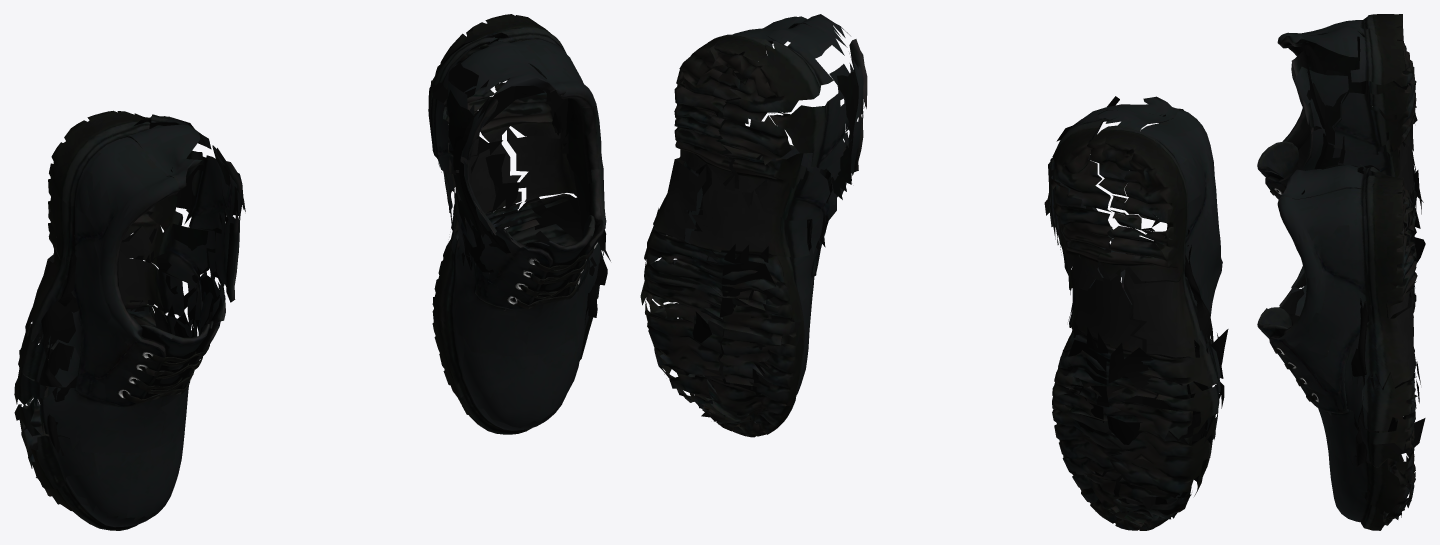
File: adult-base-01.mobile.glb
3 renders of one model, left to right at view 1: azimuth 30°, elevation 25°; view 2: azimuth 150°, elevation 25°; view 3: azimuth 270°, elevation 25°, orthographic. The views are drawn at different scales.
Visible parts, largest first — view 1: geometry_0; view 2: geometry_0; view 3: geometry_0.
Boxes of the visible parts, <box> form: geometry_0: <box>14,14,610,530</box>; geometry_0: <box>640,14,1228,530</box>; geometry_0: <box>1257,14,1425,530</box>.
Size of the model in its own units: 0.00397 by 0.00268 by 0.00118.
1 material, 1 textured.
